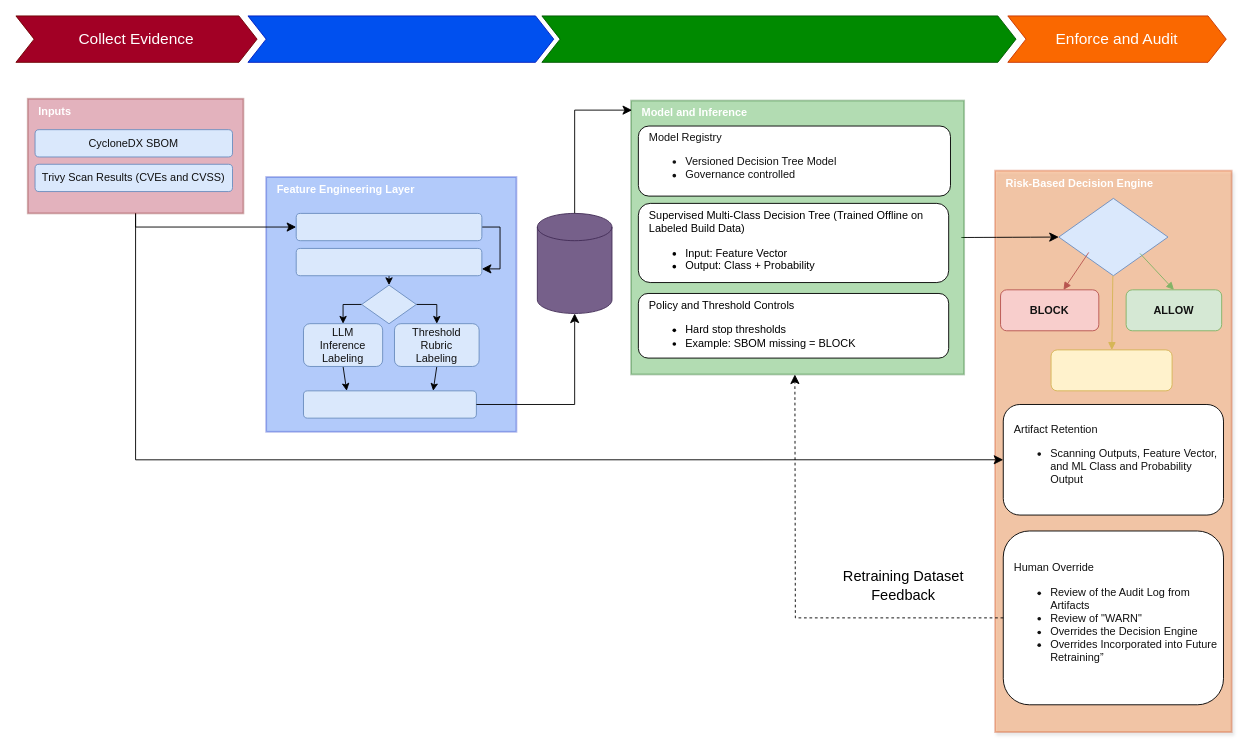
Some shapes in this 1254 by 755 pixel diagram are drawn without their labels. Each missing label, with the centre of its shape:
"Extract Security Features" belongs at (388,262).
"Infer Decision" belongs at (778,38).
"Labeled Feature Vectors labels.csv" belongs at (574,262).
"Labeler Type" belongs at (388,304).
"Normalize to Fixed Feature Schema" belongs at (389,404).
"Parse and Validate Scan Outputs" belongs at (388,226).
"Process Features" belongs at (400,38).
"Risk-Based Decision" belongs at (1113,236).
"WARN (Manual Review)" belongs at (1111,370).
